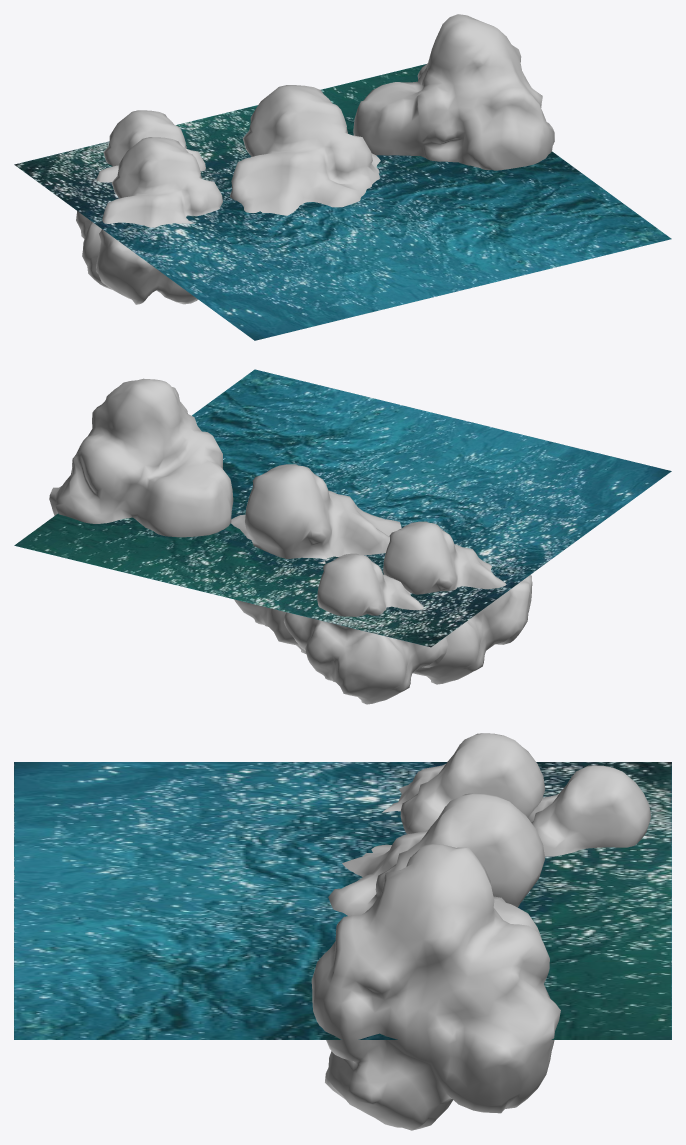
3 renders of one model, top to bottom at view 1: azimuth 30°, elevation 25°; view 2: azimuth 150°, elevation 25°; view 3: azimuth 270°, elevation 25°, orthographic. The views are drawn at different scales.
Parts seen in each view (by area): view 1: Plane_2, Rock_10.003_6, Rock_10_3, Rock_10.002_5, Rock_10.001_4; view 2: Plane_2, Rock_10.003_6, Rock_10.001_4, Rock_10_3, Rock_10.002_5; view 3: Plane_2, Rock_10.003_6, Rock_10_3, Rock_10.002_5, Rock_10.001_4.
Part boxes in pixels (x1,y1,x2,y2): Plane_2: [14, 64, 671, 340]; Rock_10.003_6: [353, 14, 554, 170]; Rock_10_3: [229, 85, 380, 215]; Rock_10.002_5: [82, 137, 222, 304]; Rock_10.001_4: [76, 110, 205, 238]; Plane_2: [14, 369, 671, 647]; Rock_10.003_6: [49, 378, 233, 537]; Rock_10.001_4: [284, 553, 447, 704]; Rock_10_3: [231, 464, 401, 654]; Rock_10.002_5: [383, 521, 532, 684]; Plane_2: [14, 762, 671, 1039]; Rock_10.003_6: [311, 844, 560, 1130]; Rock_10_3: [328, 793, 544, 915]; Rock_10.002_5: [382, 733, 545, 834]; Rock_10.001_4: [528, 765, 650, 856].
Size of the model in its own units: 5.47 by 2.51 by 5.1.
